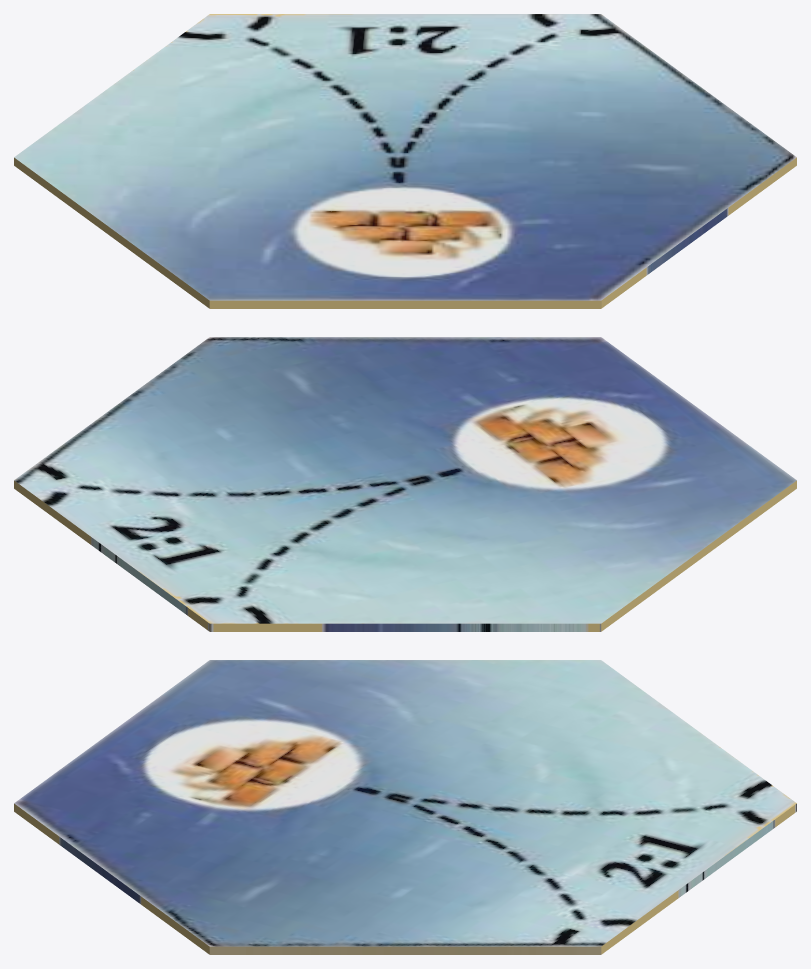
Rendered from trade_clay.obj.
3 views of the same model, one above another, from view 1: azimuth 30°, elevation 25°; view 2: azimuth 150°, elevation 25°; view 3: azimuth 270°, elevation 25° (orthographic).
Visible parts, largest first — view 1: trade_clay; view 2: trade_clay; view 3: trade_clay.
Part boxes in pixels (box(x1,y1,x2,y2)): trade_clay: box(14, 14, 796, 308); trade_clay: box(14, 337, 796, 631); trade_clay: box(14, 660, 796, 954).
Size of the model in its own units: 1.73 by 0.0232 by 2.
